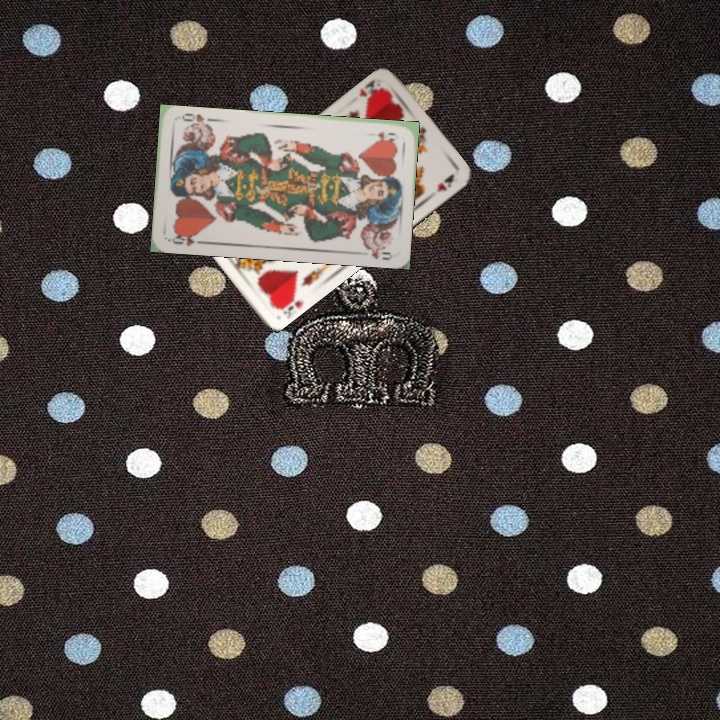HK: (272, 287, 301, 319), (355, 76, 387, 105)
HO: (165, 229, 206, 249), (373, 127, 398, 143)
